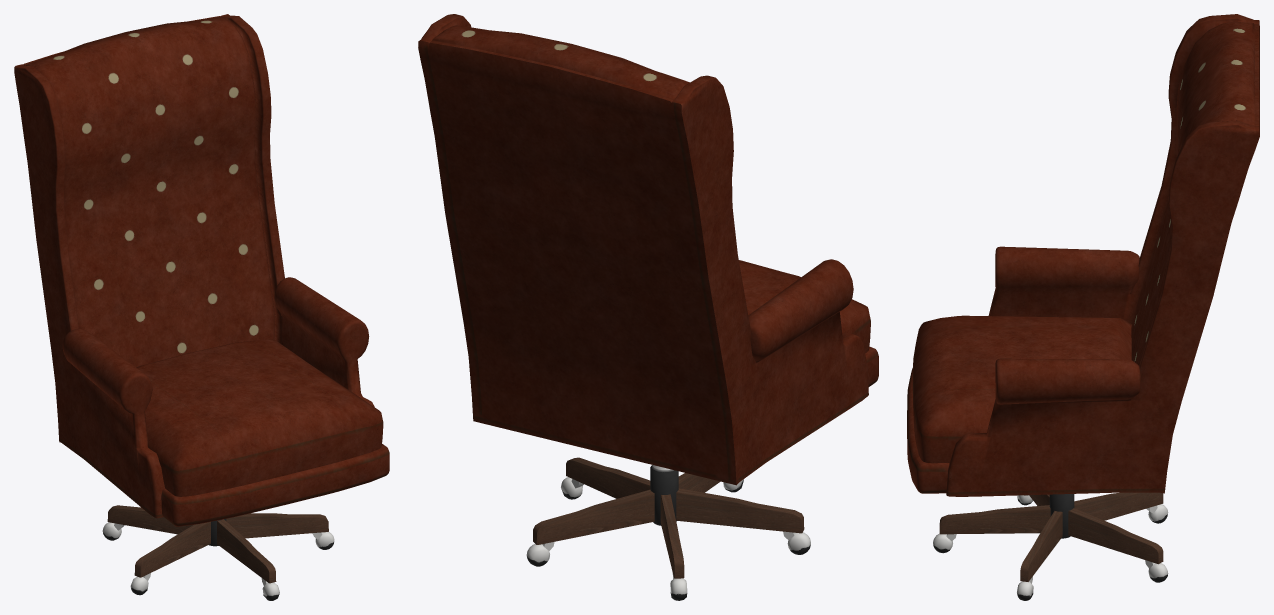
Rendered from ChairRetro02.FBX.
3 renders of one model, left to right at view 1: azimuth 30°, elevation 25°; view 2: azimuth 150°, elevation 25°; view 3: azimuth 270°, elevation 25°, orthographic. The views are drawn at different scales.
Visible parts, largest first — view 1: ChairRetro02; view 2: ChairRetro02; view 3: ChairRetro02.
Boxes of the visible parts, x1=… form: ChairRetro02: x1=14, y1=14, x2=389, y2=600; ChairRetro02: x1=418, y1=14, x2=878, y2=600; ChairRetro02: x1=907, y1=14, x2=1259, y2=600.
Size of the model in its own units: 928 by 1654 by 1077.
